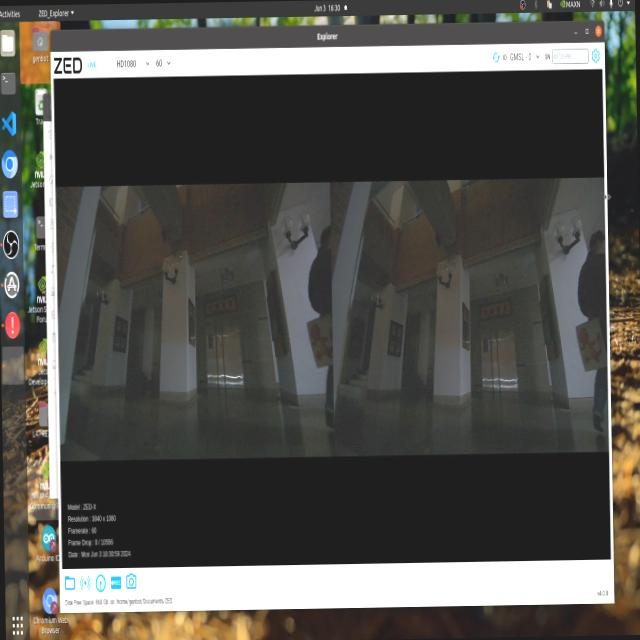red: (573, 318, 605, 377), (308, 308, 337, 362)
